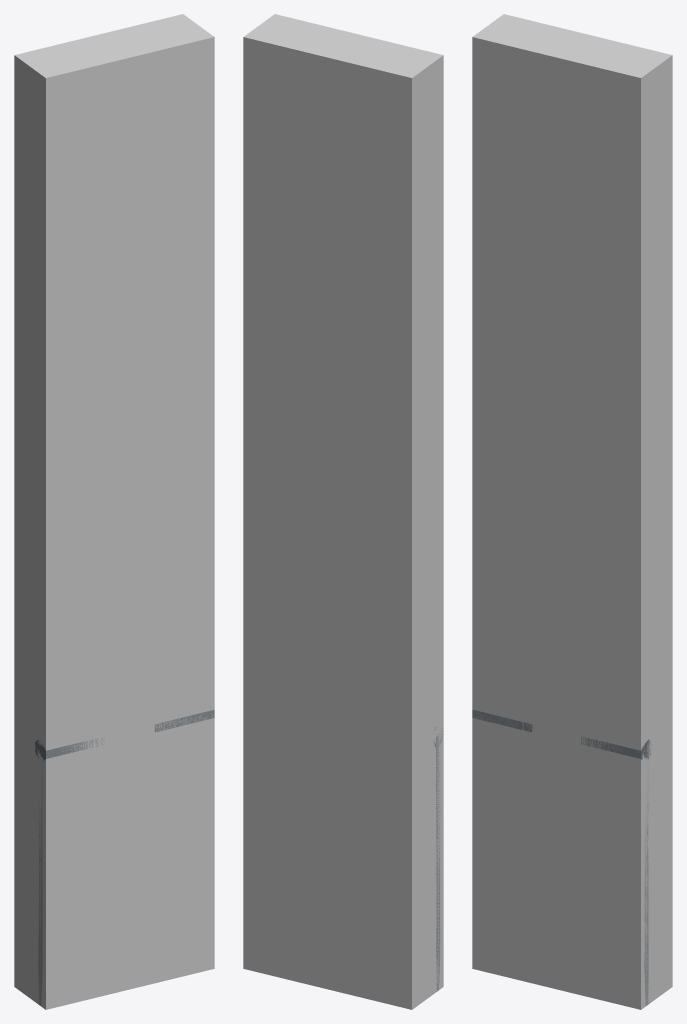
The model's file is FMS_Tool_Spade.fbx.
The picture shows the model from 3 angles, left to right: view 1: azimuth 30°, elevation 25°; view 2: azimuth 150°, elevation 25°; view 3: azimuth 330°, elevation 25°; orthographic projection.
Parts seen in each view (by area): view 1: FMS_Tool_Spade_Col, FMS_Tool_Spade_LOD0; view 2: FMS_Tool_Spade_Col, FMS_Tool_Spade_LOD0; view 3: FMS_Tool_Spade_Col, FMS_Tool_Spade_LOD0.
Part boxes in pixels (x1,y1,x2,y2): FMS_Tool_Spade_Col: (14,14,214,1009); FMS_Tool_Spade_LOD0: (35,709,214,1006); FMS_Tool_Spade_Col: (243,14,443,1009); FMS_Tool_Spade_LOD0: (434,727,442,991); FMS_Tool_Spade_Col: (472,14,672,1009); FMS_Tool_Spade_LOD0: (472,709,651,1006).
Size of what is drawn, in the model's own units: 0.18 by 0.95 by 0.0581.
Materials: 1 (1 with a texture image).
